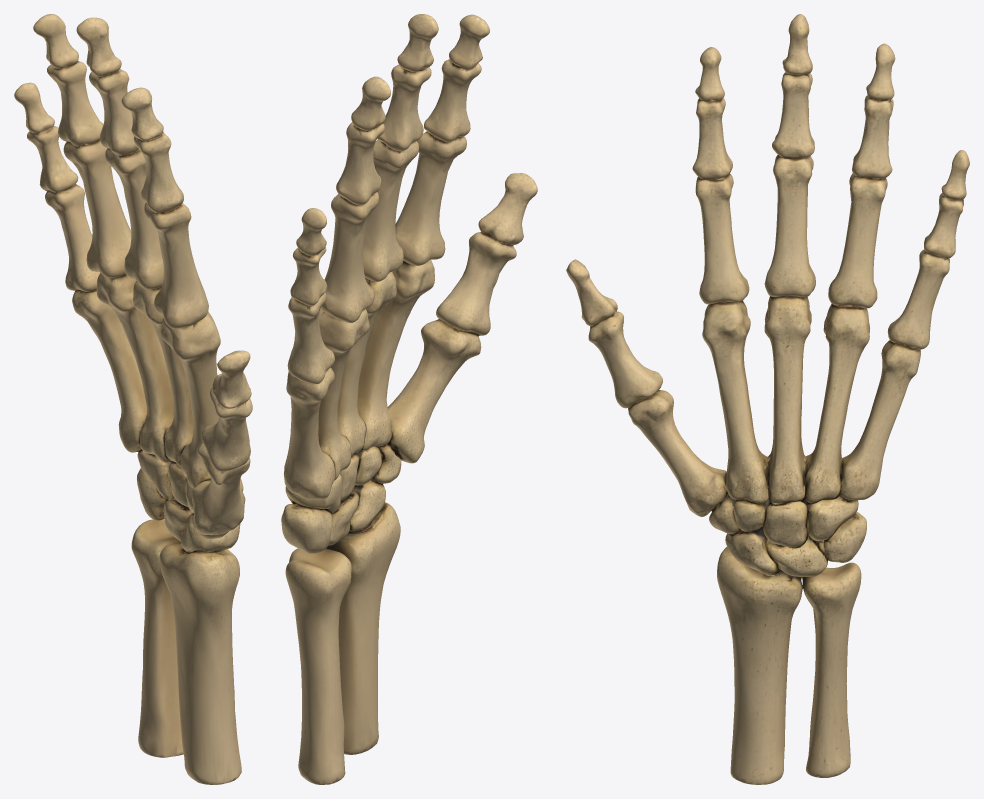
The model's file is hand.glb.
3 renders of one model, left to right at view 1: azimuth 30°, elevation 25°; view 2: azimuth 150°, elevation 25°; view 3: azimuth 270°, elevation 25°, orthographic. The views are drawn at different scales.
Parts seen in each view (by area): view 1: tripo_node_ab42f143-19ac-40d6-bd4d-ff882ba0c8e3; view 2: tripo_node_ab42f143-19ac-40d6-bd4d-ff882ba0c8e3; view 3: tripo_node_ab42f143-19ac-40d6-bd4d-ff882ba0c8e3.
Part boxes in pixels (<box>): tripo_node_ab42f143-19ac-40d6-bd4d-ff882ba0c8e3: <box>14,14,252,784</box>; tripo_node_ab42f143-19ac-40d6-bd4d-ff882ba0c8e3: <box>281,14,537,784</box>; tripo_node_ab42f143-19ac-40d6-bd4d-ff882ba0c8e3: <box>566,14,969,784</box>.
Bounding box in the file's own units: 0.1985 × 1 × 0.513.
1 material, 1 textured.
